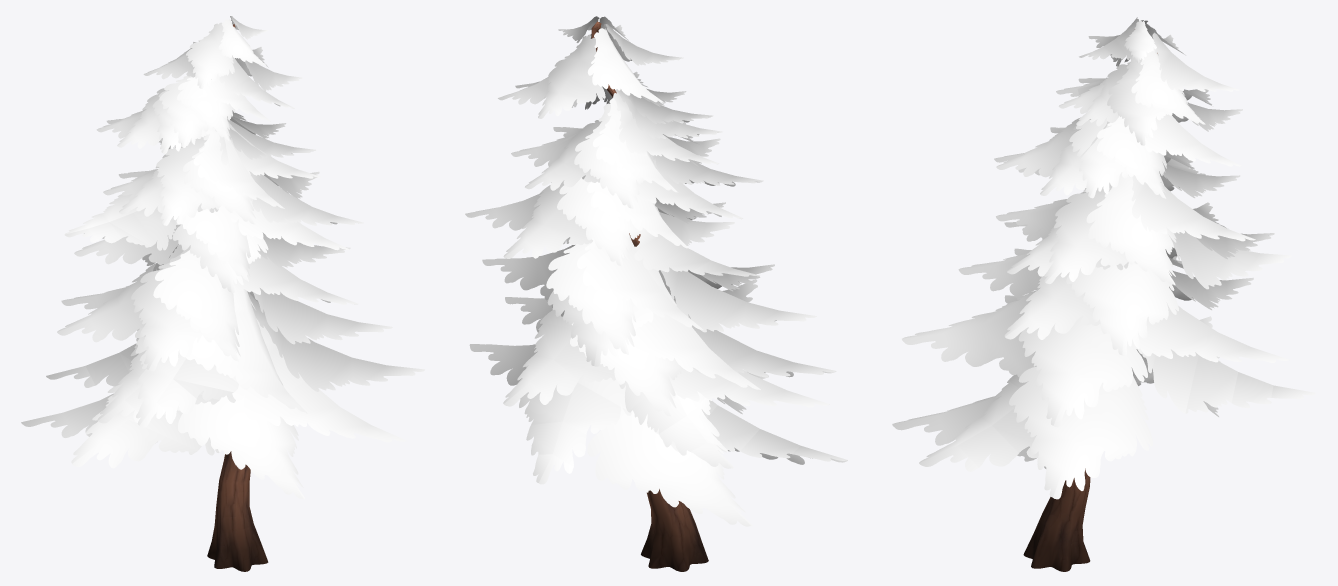
Rendered from Pine_5.glb.
3 views of the same model, side by side, from view 1: azimuth 30°, elevation 25°; view 2: azimuth 150°, elevation 25°; view 3: azimuth 270°, elevation 25° (orthographic). The views are drawn at different scales.
Parts seen in each view (by area): view 1: Pine_5; view 2: Pine_5; view 3: Pine_5.
Part boxes in pixels (<box>): Pine_5: <box>21,16,424,571</box>; Pine_5: <box>465,16,847,571</box>; Pine_5: <box>892,17,1315,571</box>.
Size of what is drawn, in the model's own units: 6.42 by 8.72 by 6.22.
Materials: 2 (2 with a texture image).
